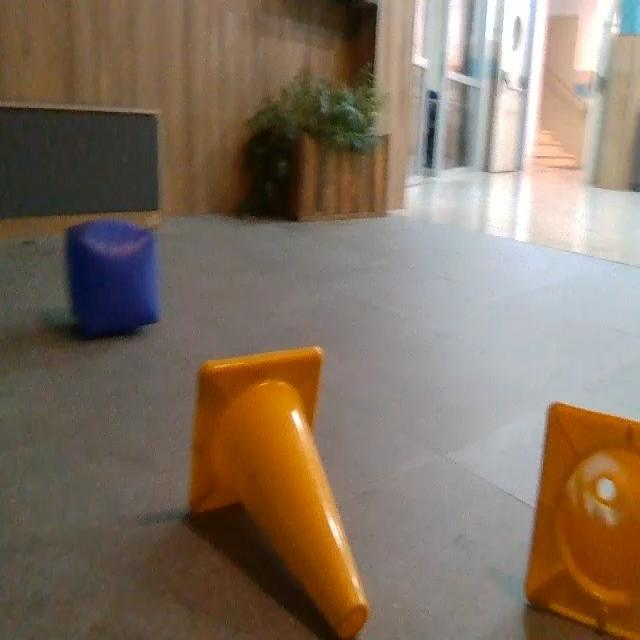cone: (191, 345, 376, 639), (524, 398, 639, 640)
cube: (70, 219, 158, 342)
